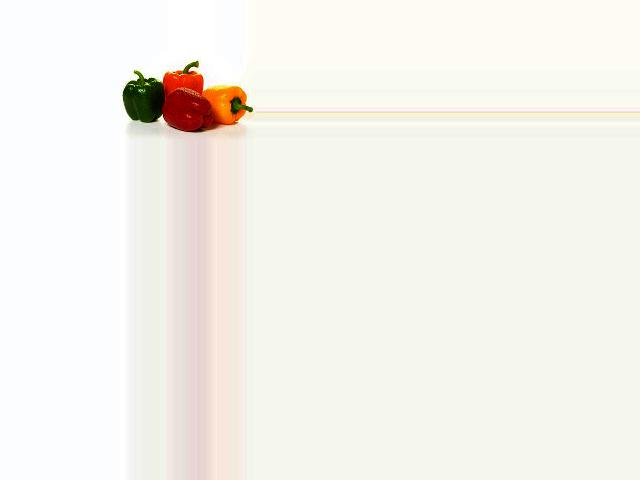bell_pepper: (122, 73, 167, 129)
